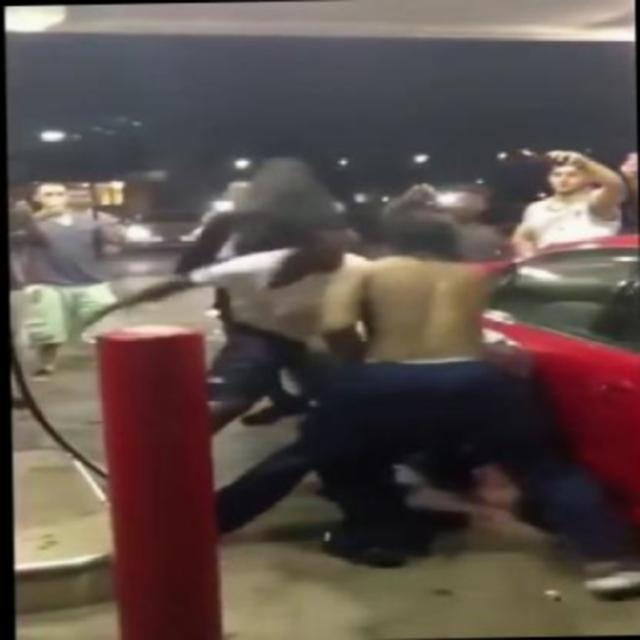fight: (134, 215, 542, 520)
non-fight: (20, 179, 138, 379), (508, 140, 628, 236)
